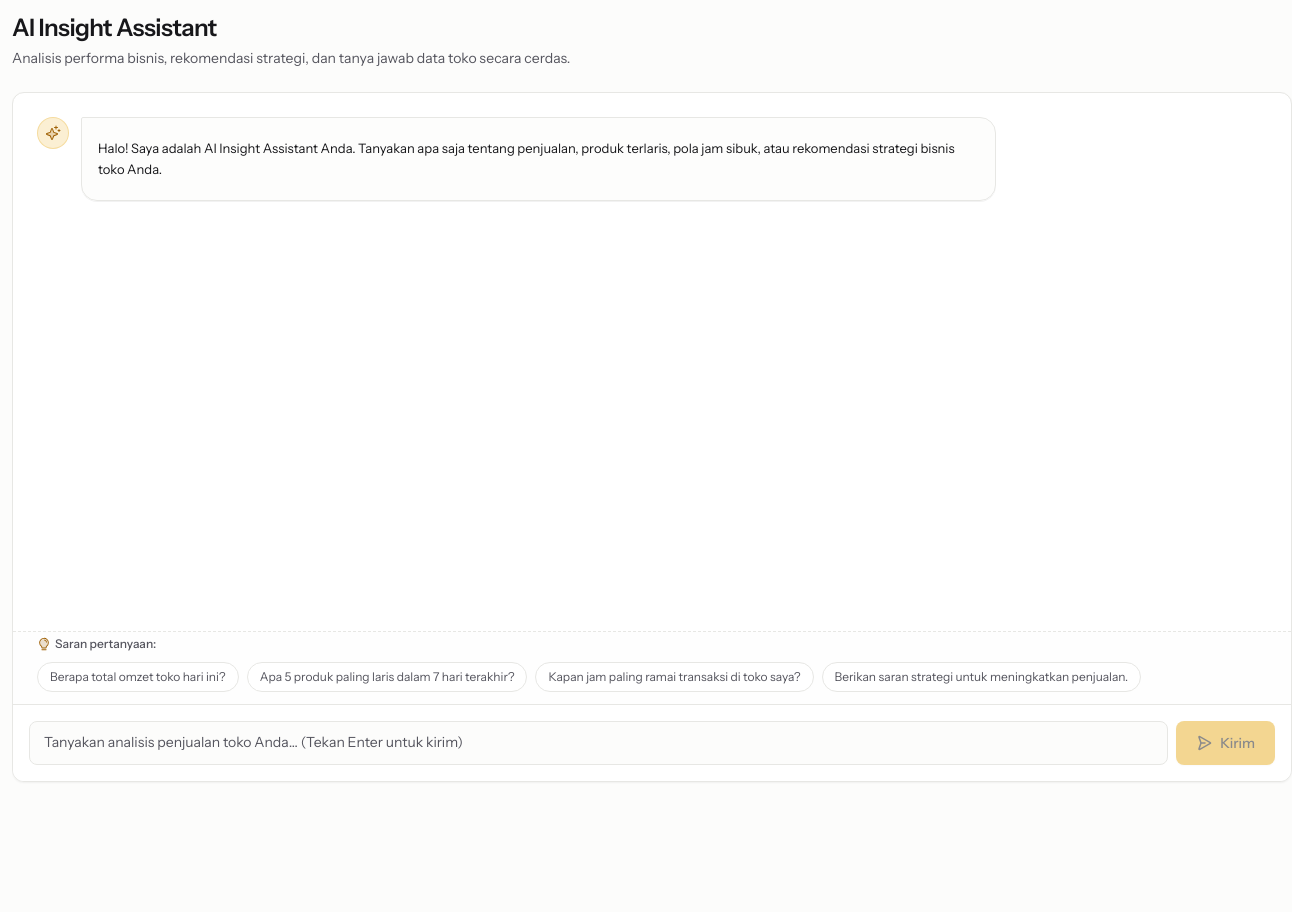
it: AiInsightView › sends message to backend and renders response.answer with asOf timestamp
The image size is (1292, 912).
Replace the text in the text box with placeholder "Tanyakan analisis penjualan toko Anda" with "Berapa omzet hari ini?" at {"x": 599, "y": 743}, box [29, 721, 1168, 765]
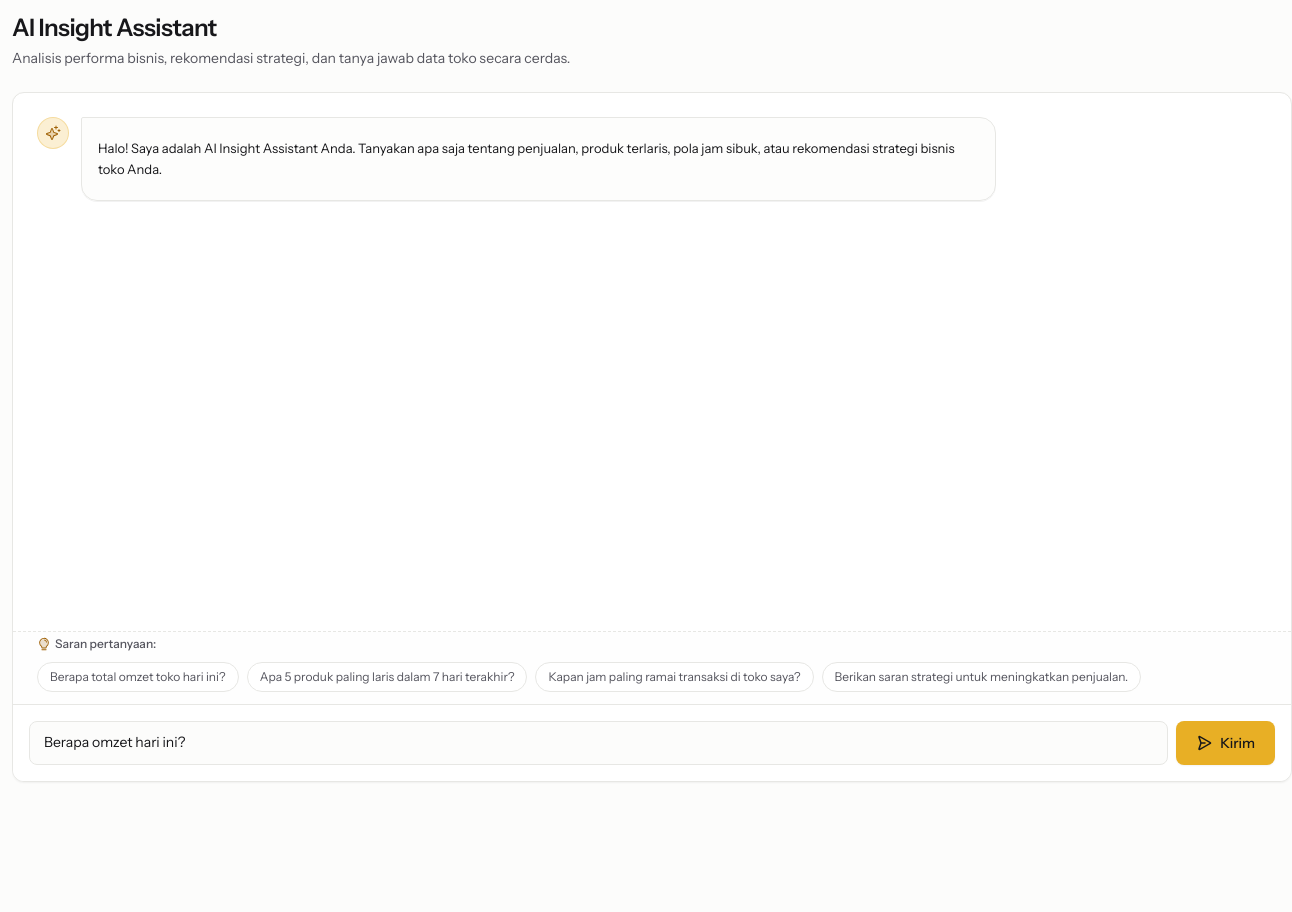
Click the button with aria-label "Kirim pertanyaan" at {"x": 1226, "y": 743}, box [1176, 721, 1275, 765]
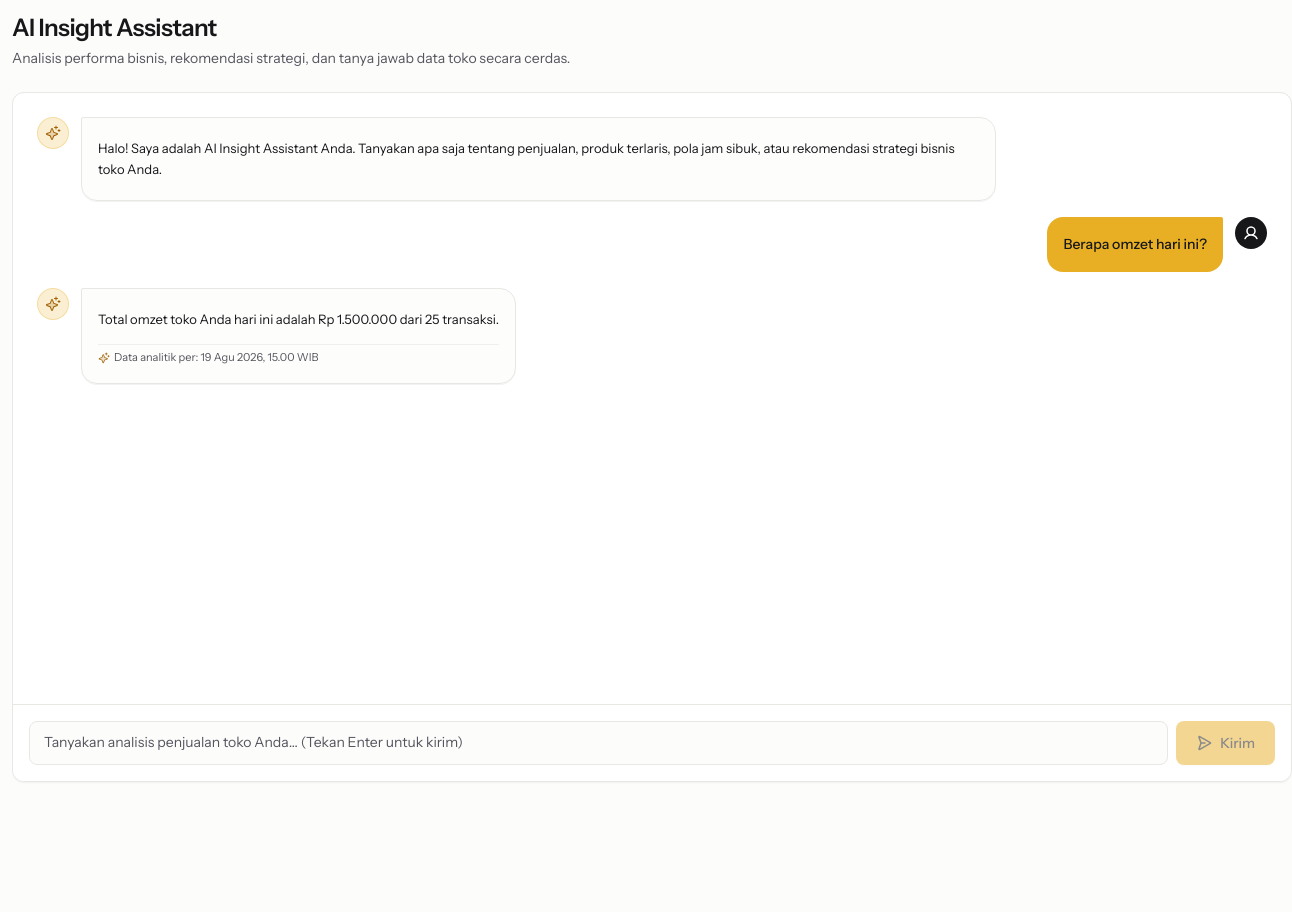
Expected: the text "Total omzet toko Anda hari ini adalah Rp 1.500.000 dari 25 transaksi." is shown, [98, 309, 499, 330]
Expected: the text "Data analitik per: 19 Agu 2026, 15.00 WIB" is shown, [114, 349, 318, 367]
